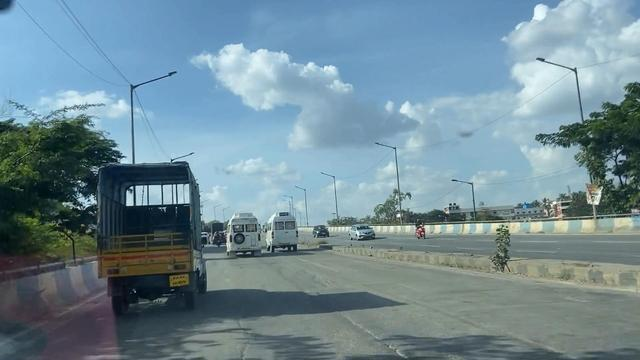HMV: (85, 141, 204, 303), (226, 202, 263, 265), (267, 210, 298, 249)
RoadDamages: (458, 313, 578, 360), (367, 309, 441, 360), (223, 313, 256, 360)
